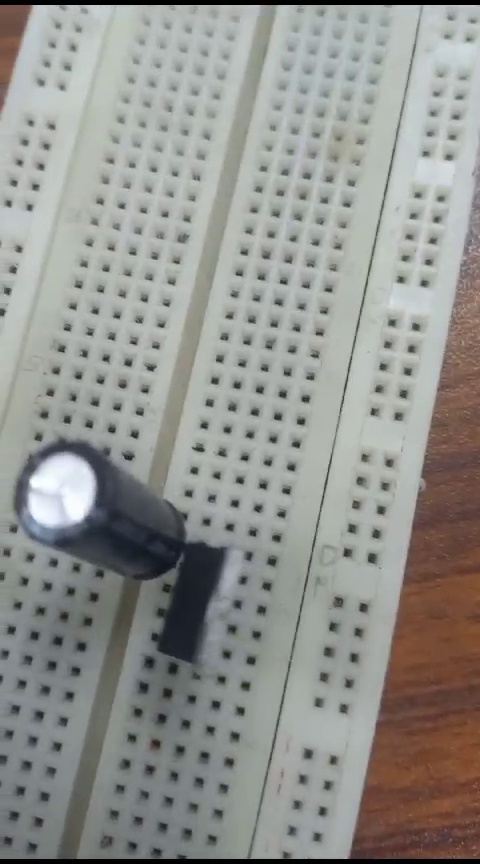capacitor: (8, 437, 182, 585)
voltage regulator: (159, 533, 243, 668)
